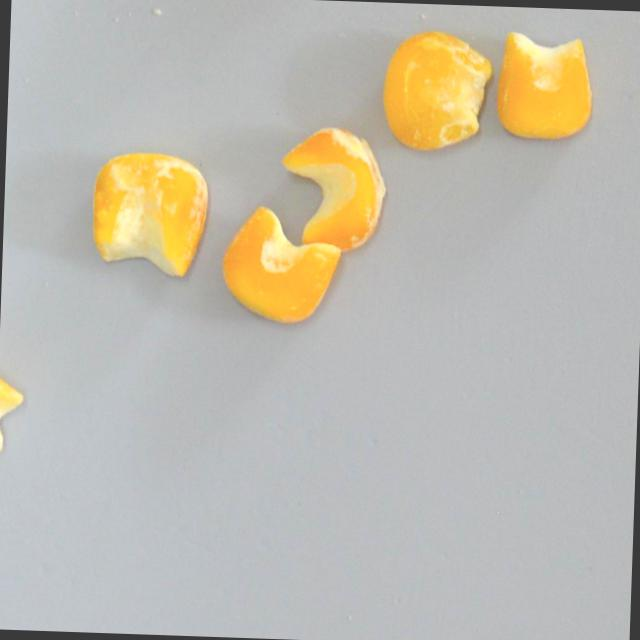pelicula: (88, 148, 211, 278), (217, 204, 342, 326), (277, 123, 386, 253), (381, 27, 493, 153), (494, 30, 594, 140), (0, 361, 25, 456)
